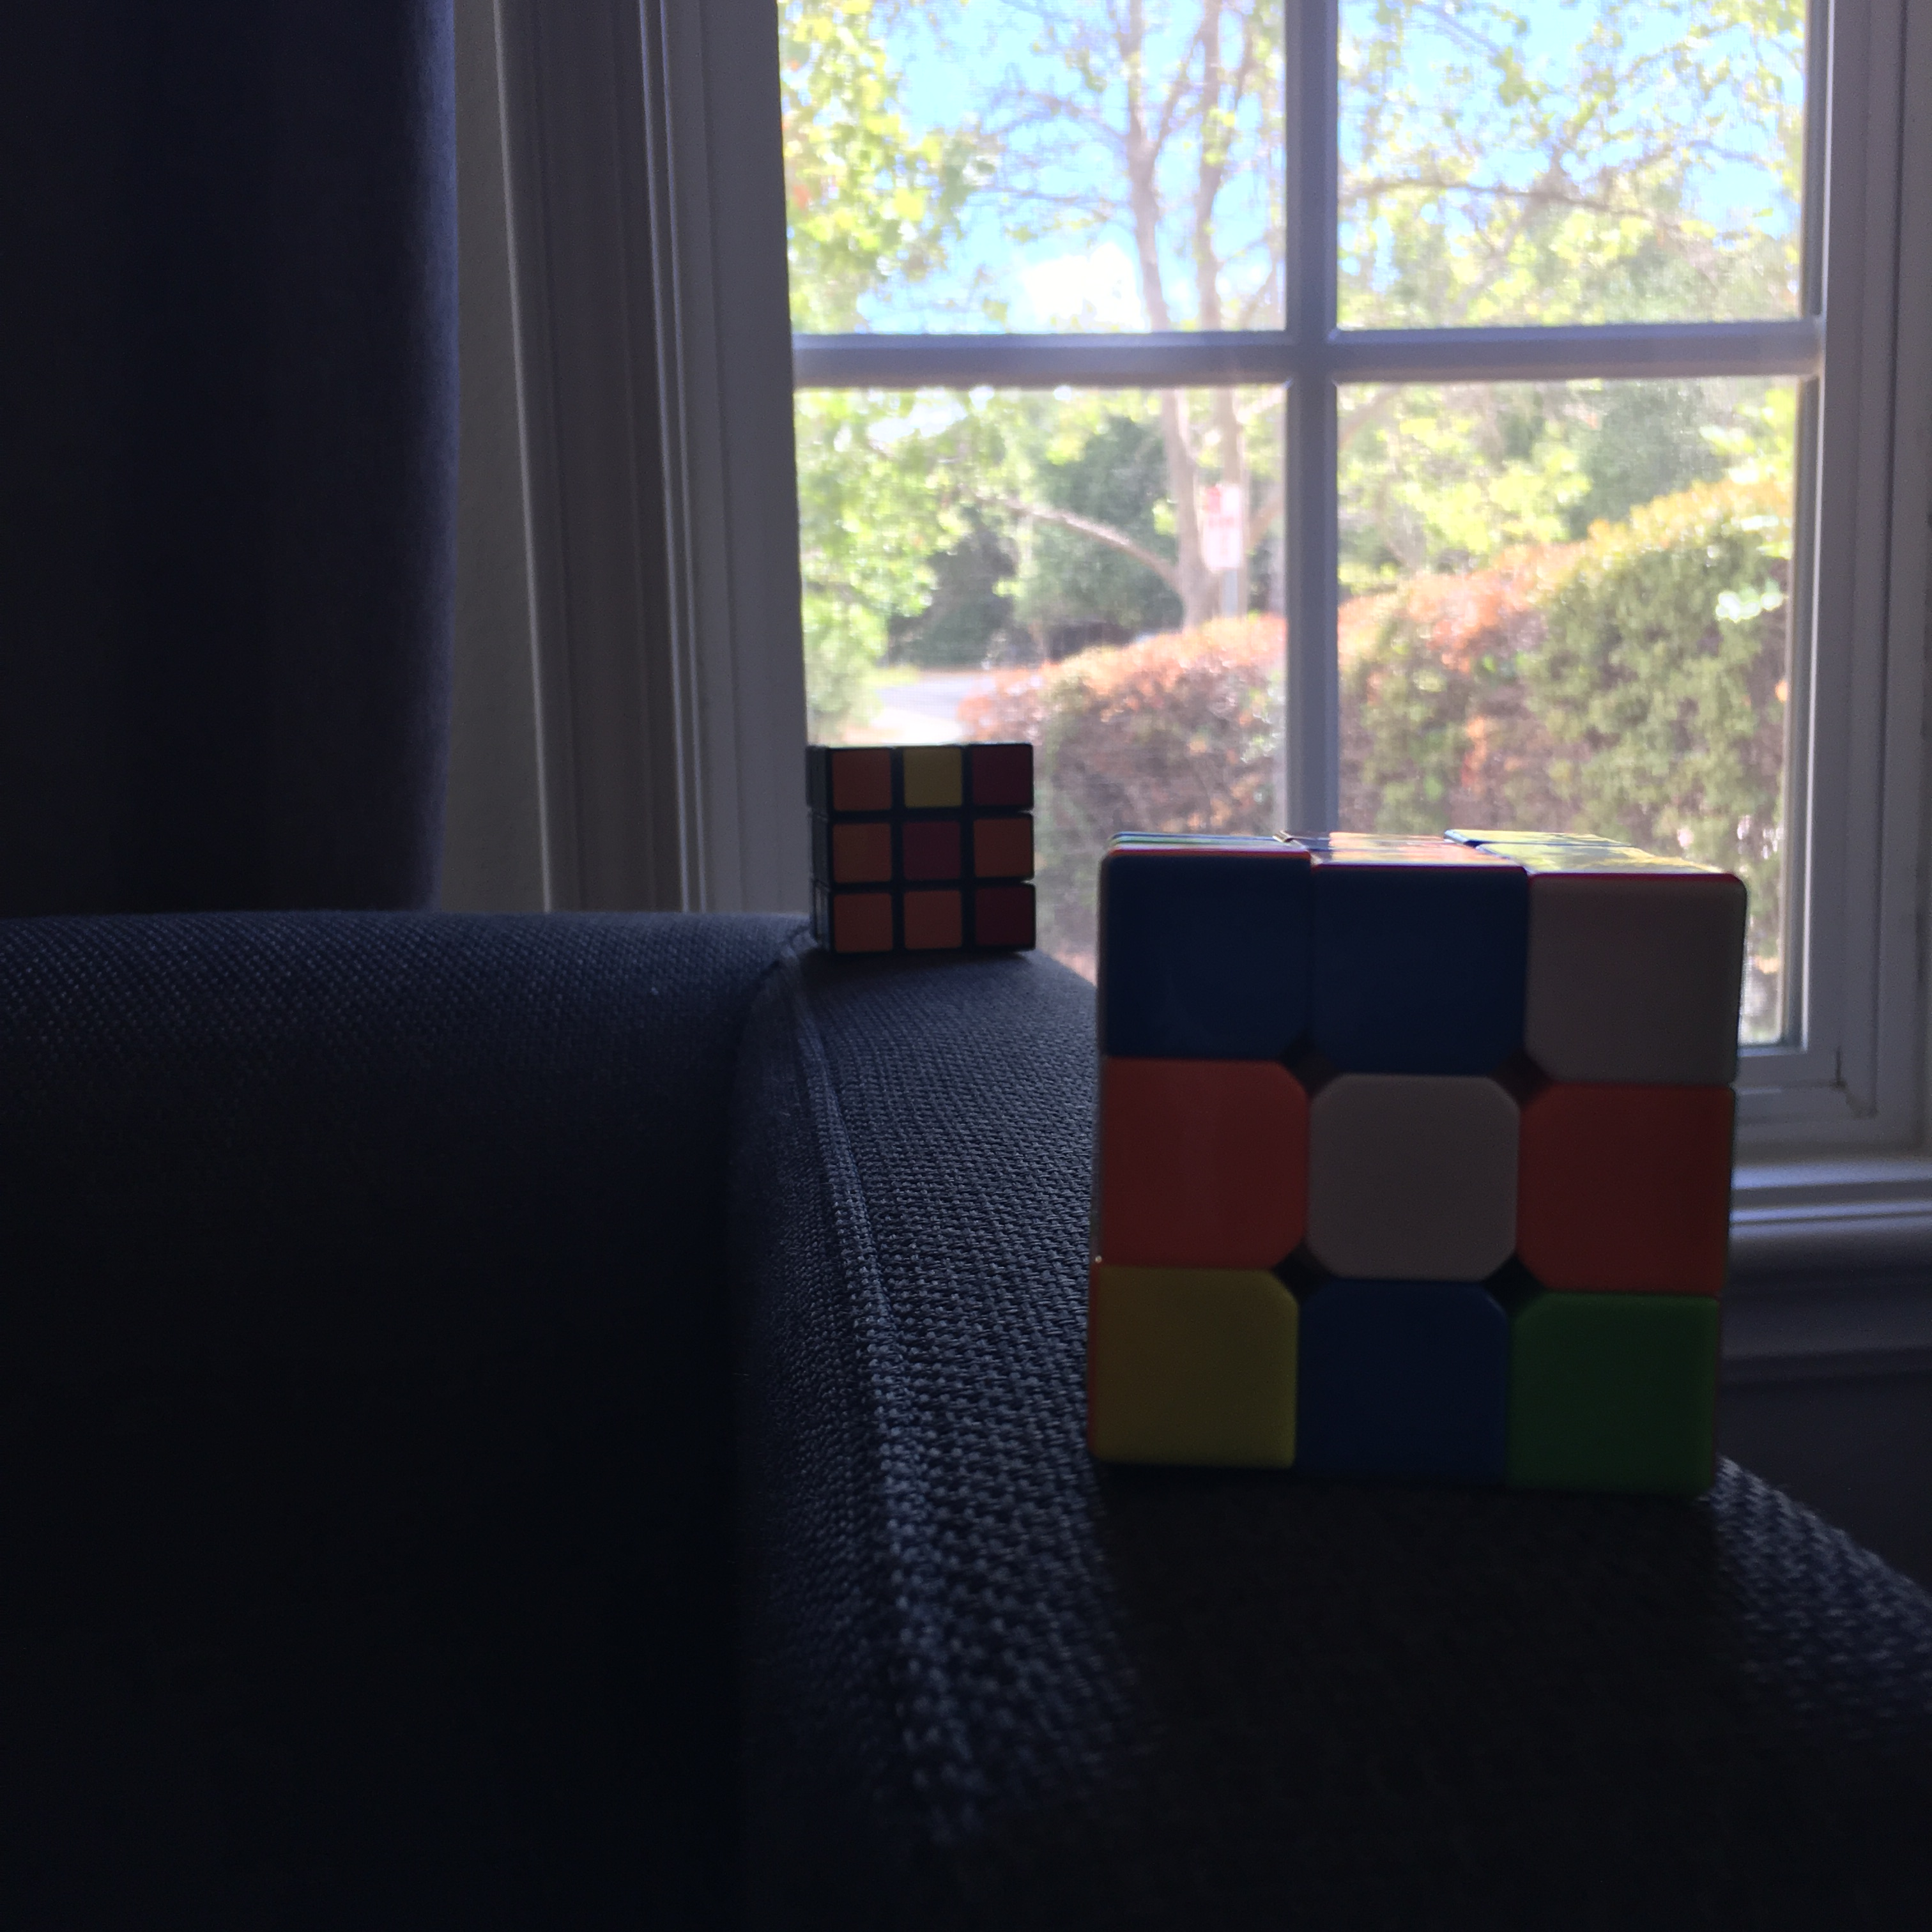face: (1096, 850, 1751, 1485), (822, 737, 1046, 957)
